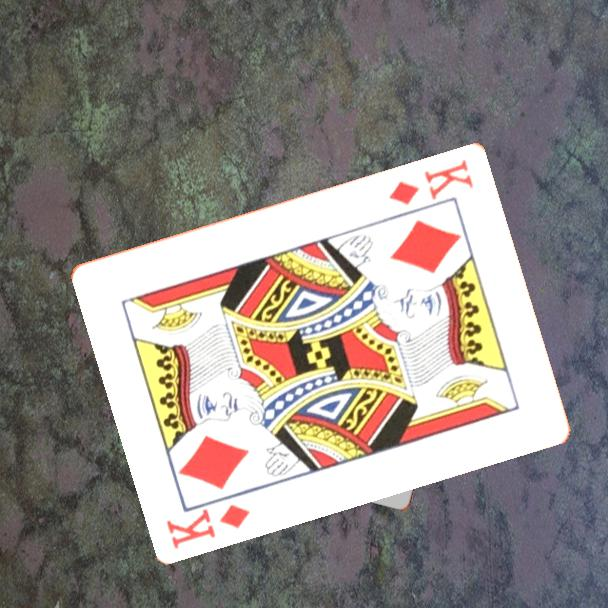d13: (386, 155, 477, 208), (163, 500, 254, 551)
